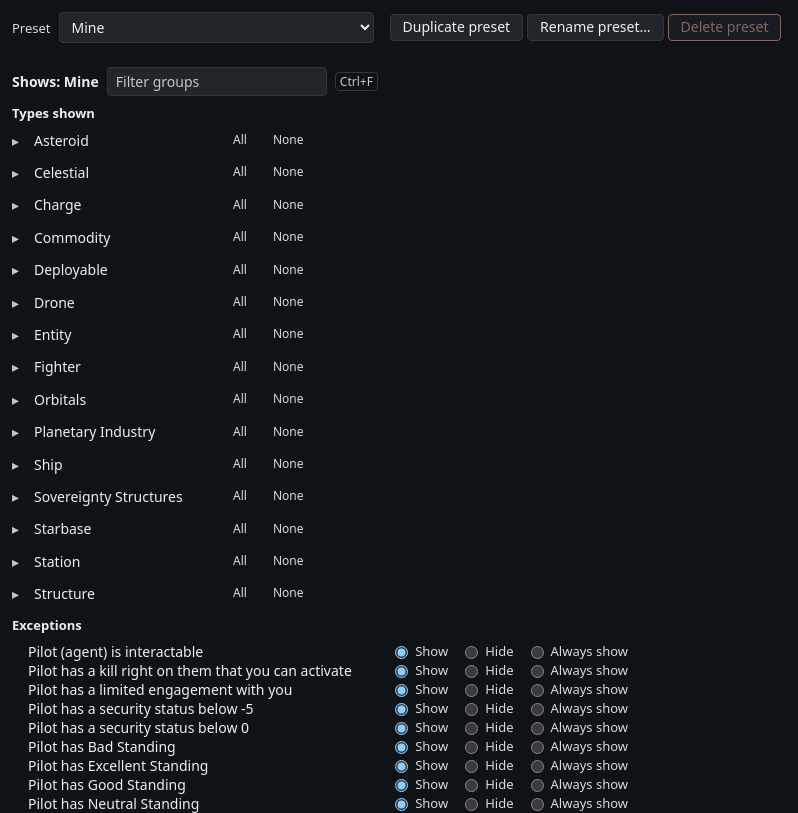
the group filter › clearing the filter collapses what the filter expanded
Type "shuttle" into the search field with class "group-filter" at (217, 82), box [107, 67, 327, 96]
Wait 200 ms
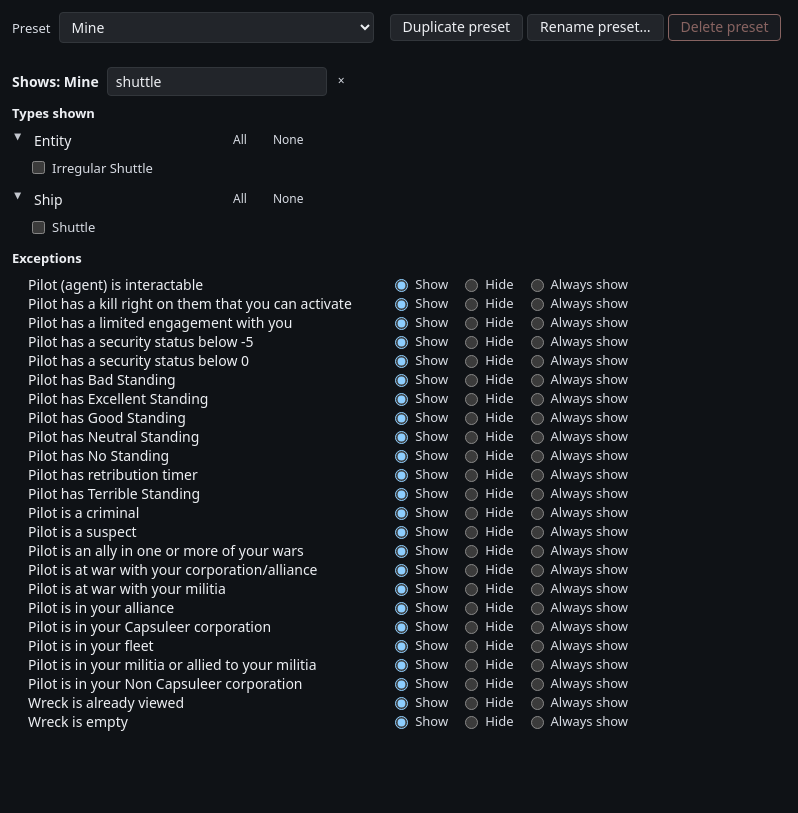
expect the checkbox labelled "Irregular Shuttle" is shown: met, box [32, 161, 45, 174]
Clear the search field with class "group-filter" at (217, 82), box [107, 67, 327, 96]
Wait 200 ms
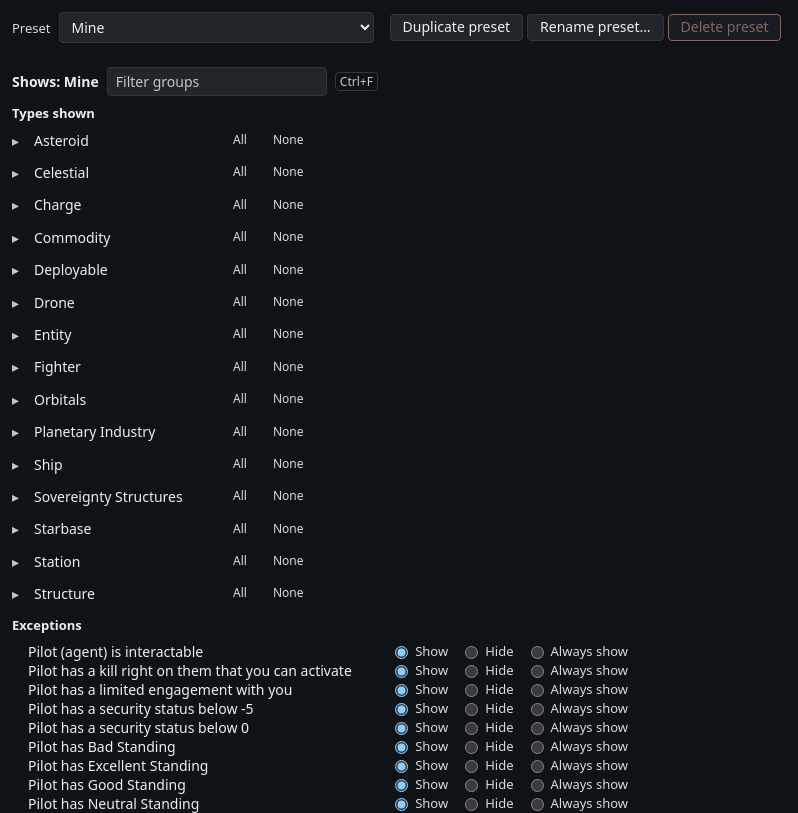
expect no checkboxes are shown: met
